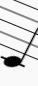LC: (1, 2, 37, 72)
